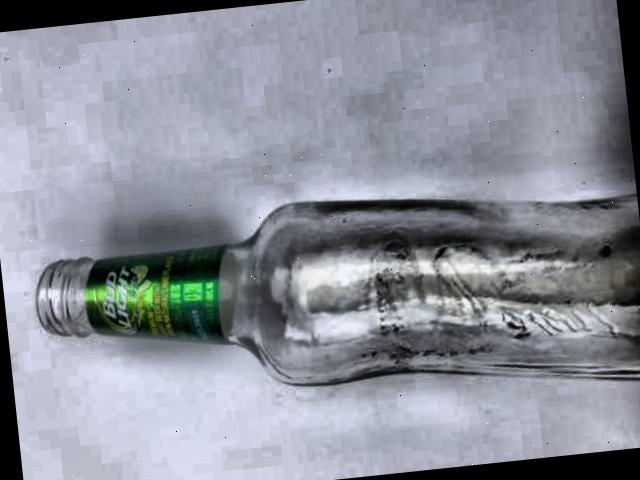Bottles: (24, 144, 640, 480)
